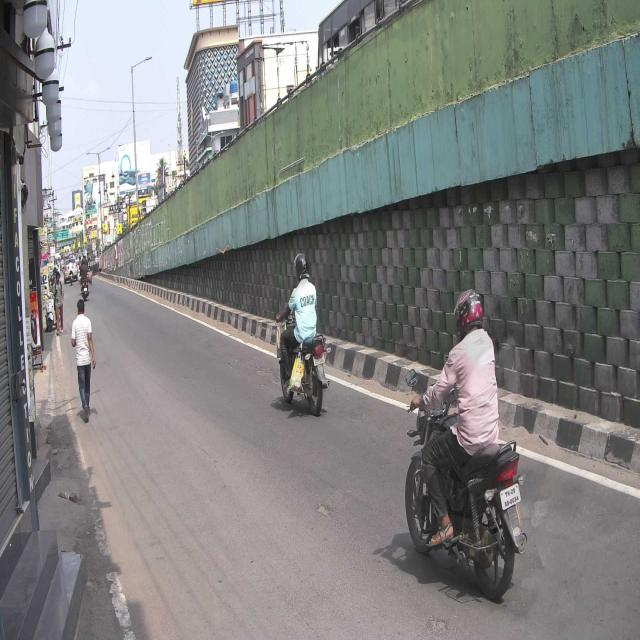single_rider: (404, 286, 528, 602), (274, 253, 330, 417)
